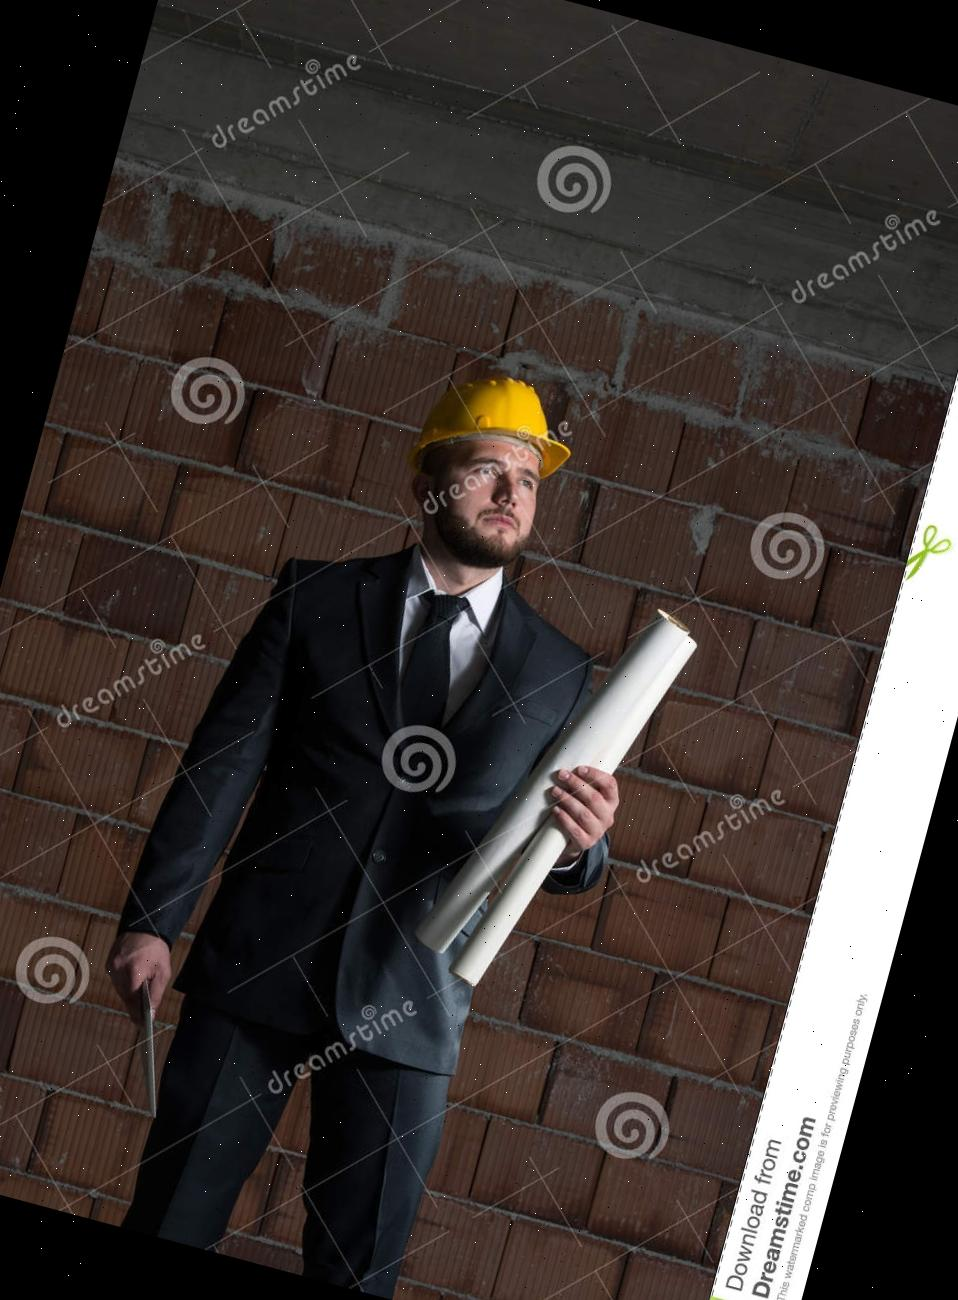helmet: (411, 356, 589, 492)
no_wear: (164, 549, 589, 1093)
